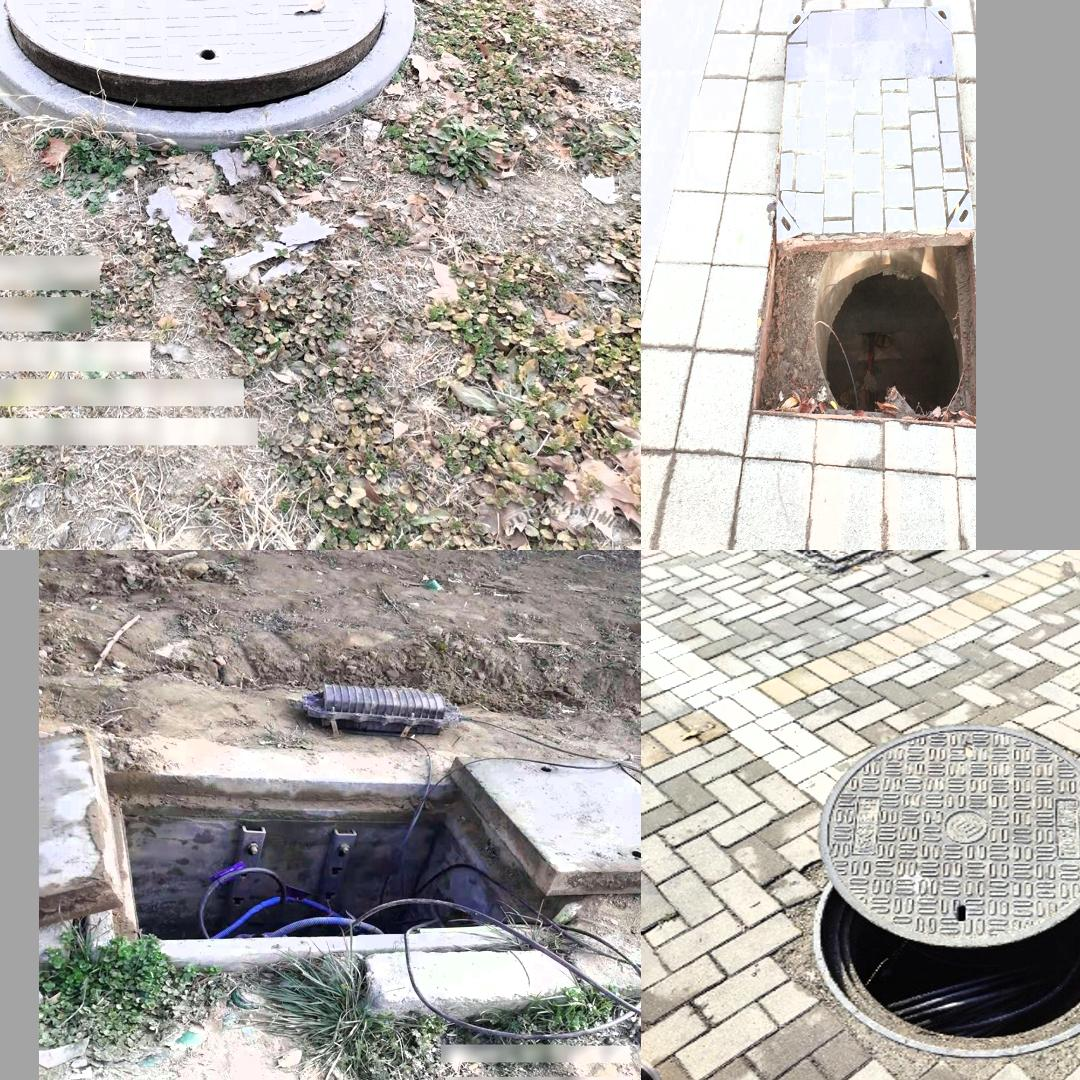uncovered: (39, 727, 634, 956), (743, 0, 969, 441), (777, 734, 1080, 1055), (0, 0, 412, 153)
